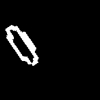chain: (6, 25, 37, 64)
